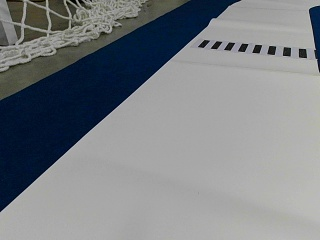crosswalk: (198, 38, 312, 59)
